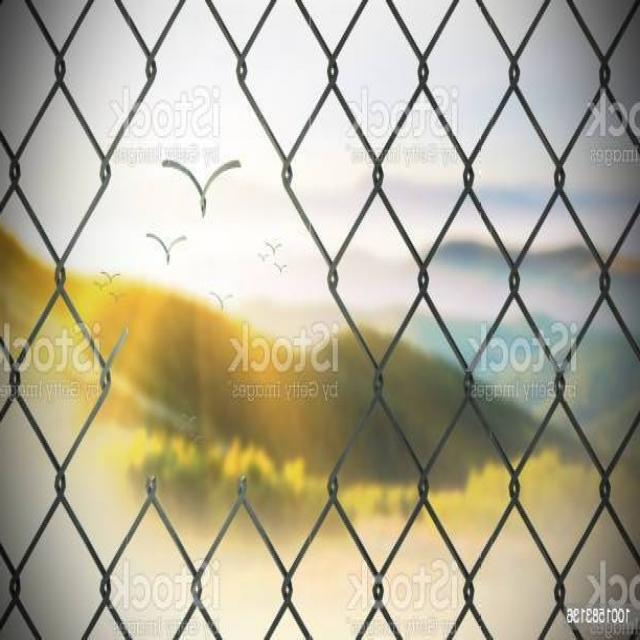fence line: (71, 105, 361, 526)
